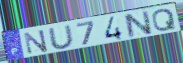4: (103, 15, 125, 42)
7: (75, 20, 97, 47)
N: (123, 9, 154, 40), (23, 28, 50, 55)
Q: (151, 8, 178, 33)
U: (47, 24, 76, 50)
